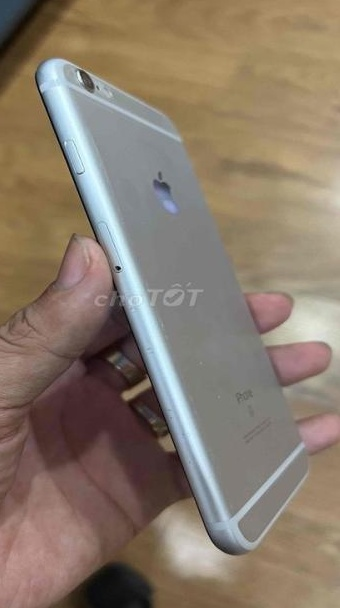scratch: (132, 283, 184, 357), (167, 406, 210, 479), (195, 358, 247, 413)
